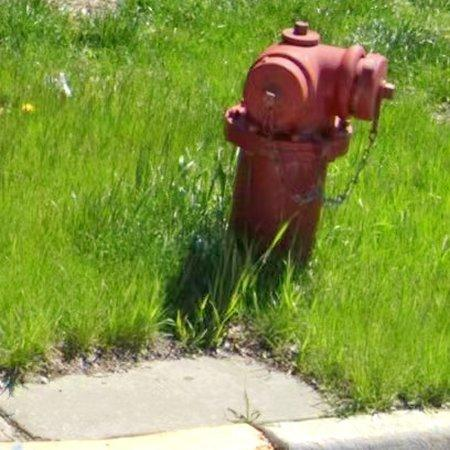a fire hydrant: (226, 21, 395, 261)
